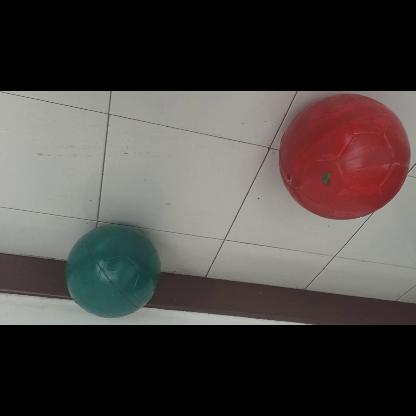green_ball: (67, 227, 159, 319)
